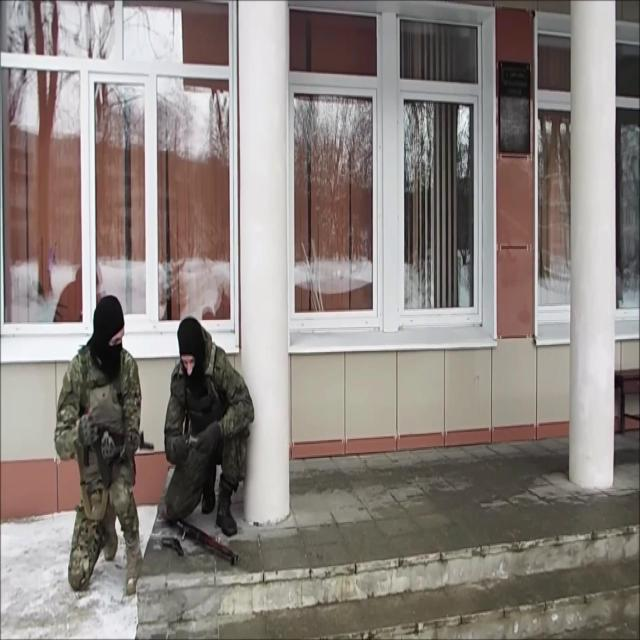pistol: (74, 416, 156, 492), (158, 500, 240, 568), (162, 534, 186, 560)
